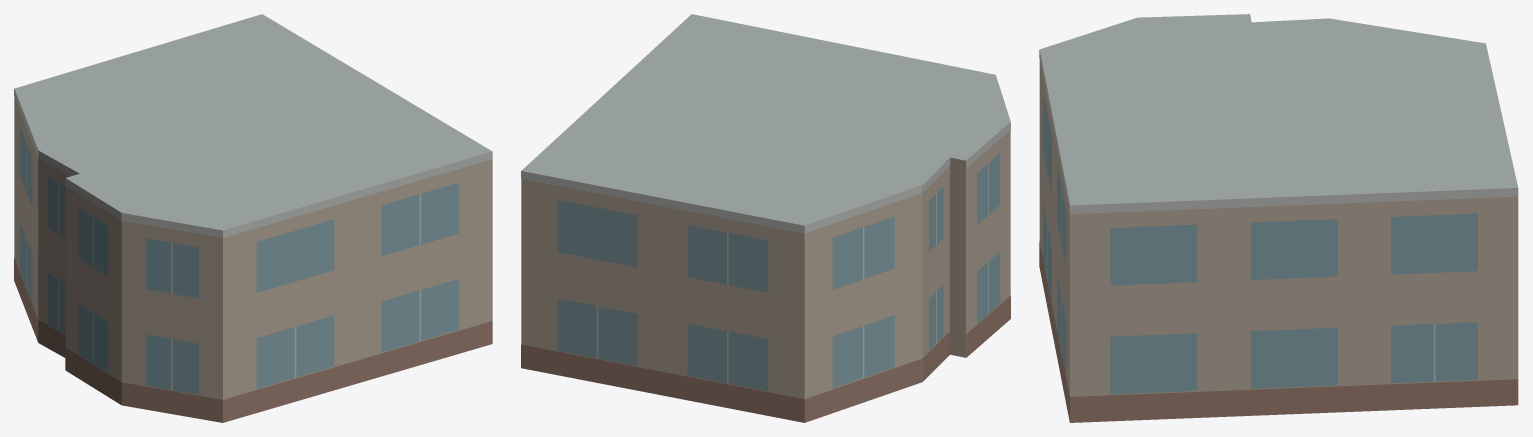
Rendered from survey-upis-32983753.glb.
3 views of the same model, side by side, from view 1: azimuth 30°, elevation 25°; view 2: azimuth 150°, elevation 25°; view 3: azimuth 270°, elevation 25° (orthographic). The views are drawn at different scales.
Visible parts, largest first — view 1: survey-upis-32983753.tmp; view 2: survey-upis-32983753.tmp; view 3: survey-upis-32983753.tmp.
Boxes of the visible parts, bbox=[...] form: survey-upis-32983753.tmp: bbox=[14, 14, 492, 422]; survey-upis-32983753.tmp: bbox=[521, 14, 1010, 422]; survey-upis-32983753.tmp: bbox=[1039, 14, 1518, 422].
Size of the model in its own units: 11.54 by 6.1 by 12.19.
